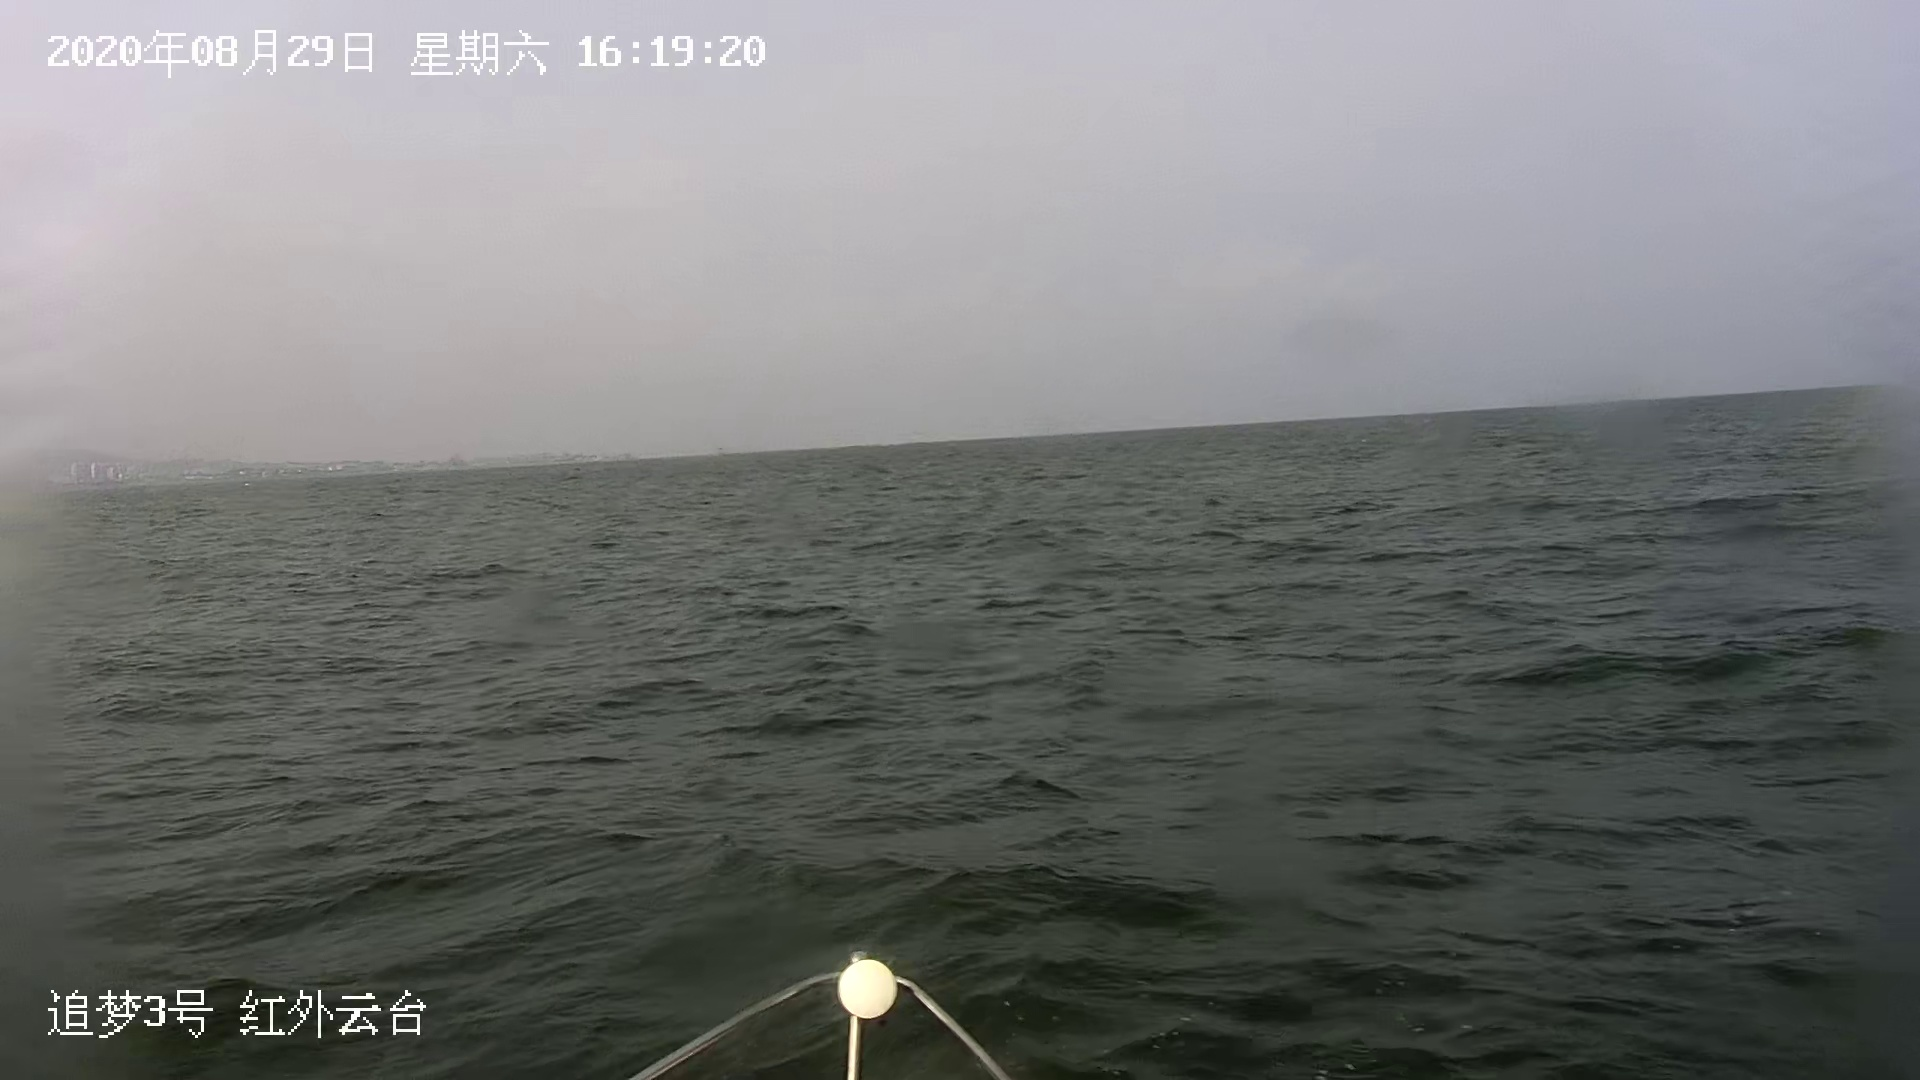coast: (12, 438, 671, 483)
